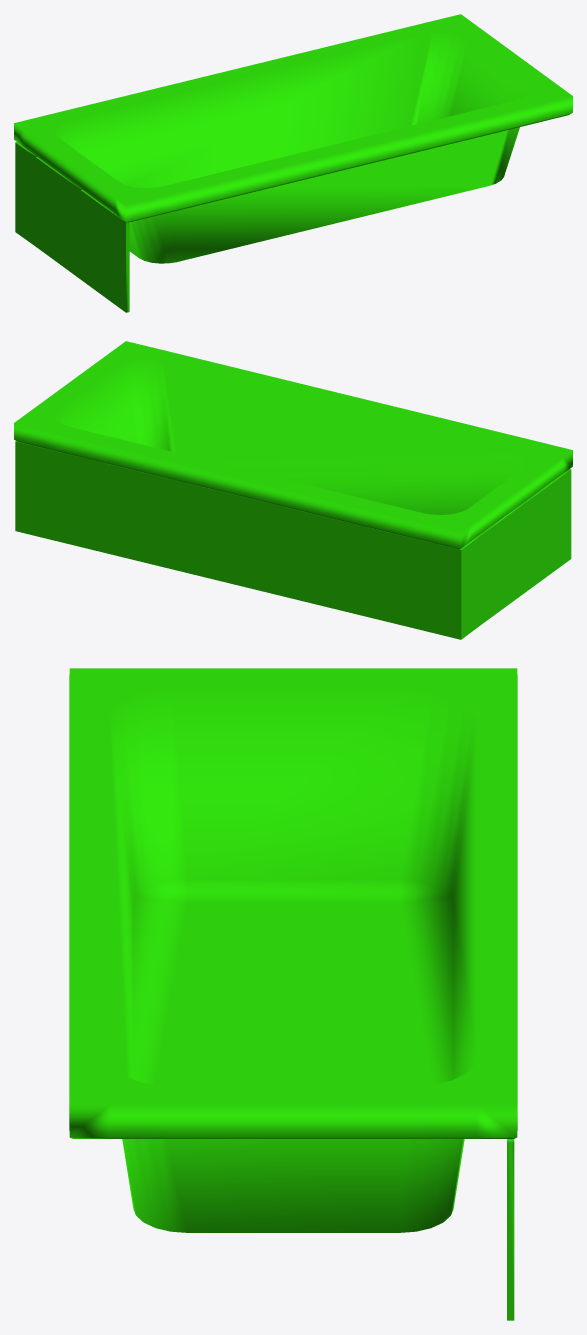
File: Bathtube_01_Lod.fbx
The picture shows the model from 3 angles, top to bottom: view 1: azimuth 30°, elevation 25°; view 2: azimuth 150°, elevation 25°; view 3: azimuth 270°, elevation 25°; orthographic projection. The views are drawn at different scales.
Visible parts, largest first — view 1: Bathtube_01_Lod; view 2: Bathtube_01_Lod; view 3: Bathtube_01_Lod.
Part boxes in pixels (<box>): Bathtube_01_Lod: <box>14,14,572,312</box>; Bathtube_01_Lod: <box>14,341,572,639</box>; Bathtube_01_Lod: <box>69,668,517,1320</box>.
Size of the model in its own units: 291 by 67.42 by 126.
